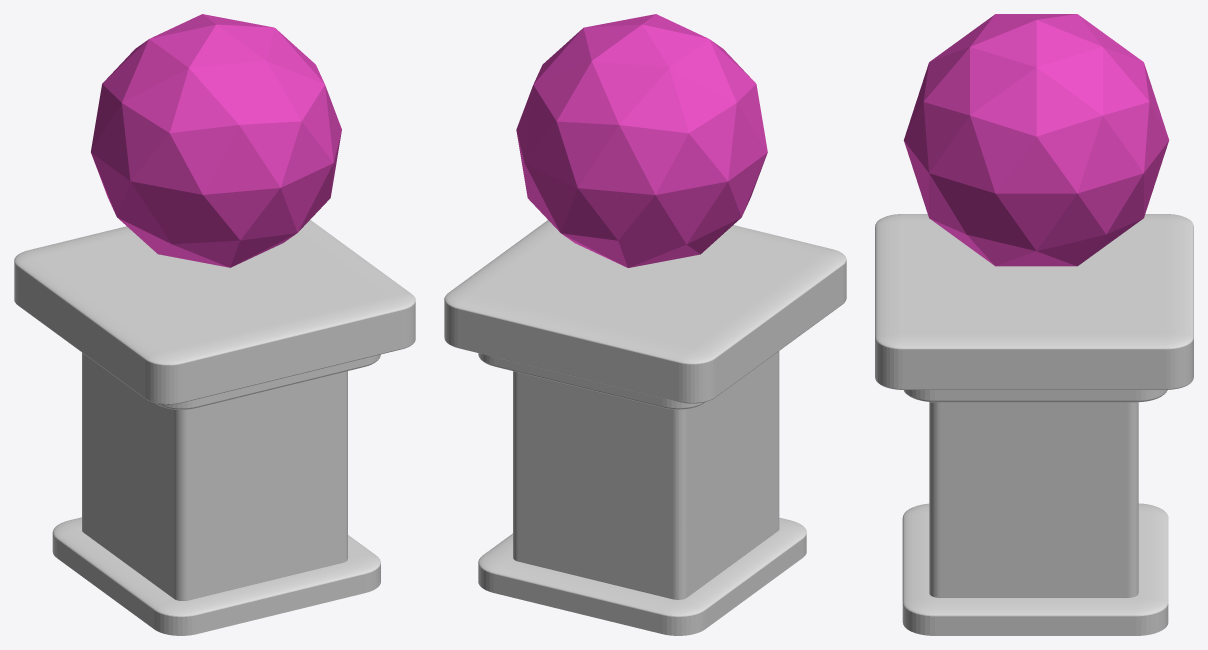
Rendered from podiumFull.glb.
3 renders of one model, left to right at view 1: azimuth 30°, elevation 25°; view 2: azimuth 150°, elevation 25°; view 3: azimuth 270°, elevation 25°, orthographic. The views are drawn at different scales.
Visible parts, largest first — view 1: obj_0, Icosphere; view 2: obj_0, Icosphere; view 3: obj_0, Icosphere.
Part boxes in pixels (<box>): obj_0: <box>14,220,415,635</box>; Icosphere: <box>91,14,341,267</box>; obj_0: <box>444,220,846,635</box>; Icosphere: <box>516,14,767,267</box>; obj_0: <box>875,214,1193,635</box>; Icosphere: <box>903,14,1169,266</box>.
Bounding box in the file's own units: 24 × 46.53 × 24.
